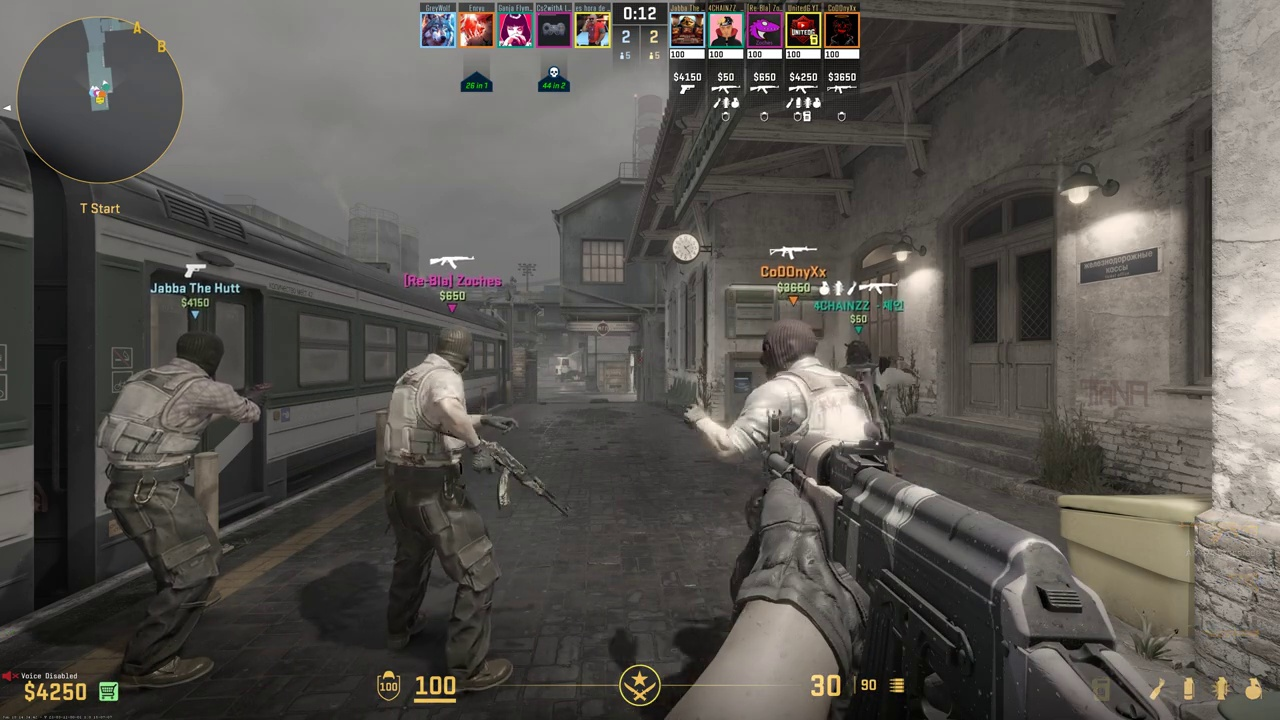Terrorist: (103, 330, 252, 688), (714, 323, 885, 606), (380, 324, 502, 693), (836, 338, 899, 406)
